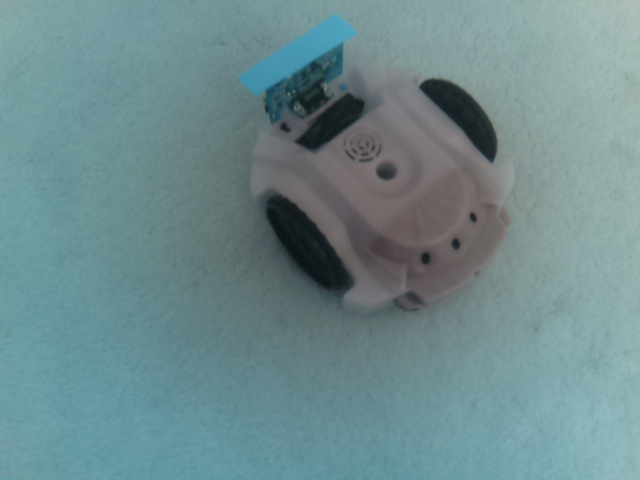board: (237, 11, 355, 103)
chassis: (237, 11, 514, 317)
